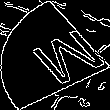M_SE: (9, 21, 101, 89)
